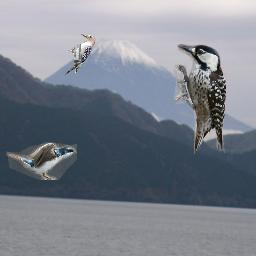Swallow: (6, 142, 77, 180)
Woodpecker: (173, 44, 226, 154), (65, 33, 96, 75)
